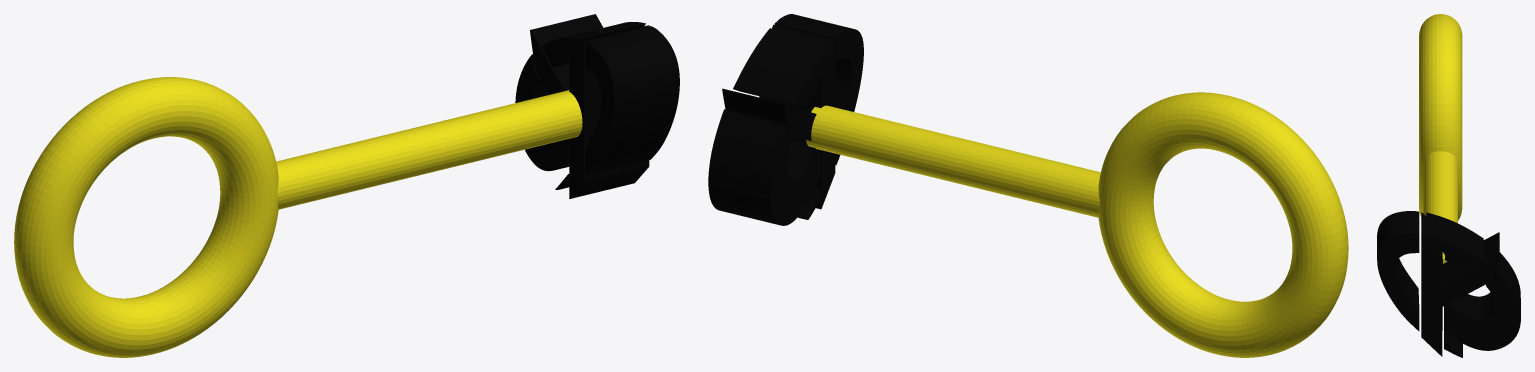
The model's file is Key.fbx.
3 renders of one model, left to right at view 1: azimuth 30°, elevation 25°; view 2: azimuth 150°, elevation 25°; view 3: azimuth 270°, elevation 25°, orthographic. The views are drawn at different scales.
Parts seen in each view (by area): view 1: Torus, Curve, Cylinder; view 2: Torus, Curve, Cylinder; view 3: Curve, Torus, Cylinder.
Boxes of the visible parts, x1,y1,x2,y2 form: Torus: [14, 77, 278, 357]; Curve: [515, 14, 679, 198]; Cylinder: [276, 90, 582, 209]; Torus: [1098, 92, 1348, 357]; Curve: [708, 14, 863, 225]; Cylinder: [806, 105, 1100, 217]; Curve: [1377, 211, 1520, 357]; Torus: [1419, 14, 1462, 220]; Cylinder: [1423, 151, 1457, 263].
Size of the model in its own units: 600 by 250 by 166.
